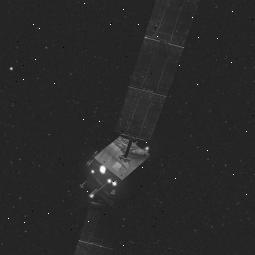smart_1: (49, 14, 191, 255)
